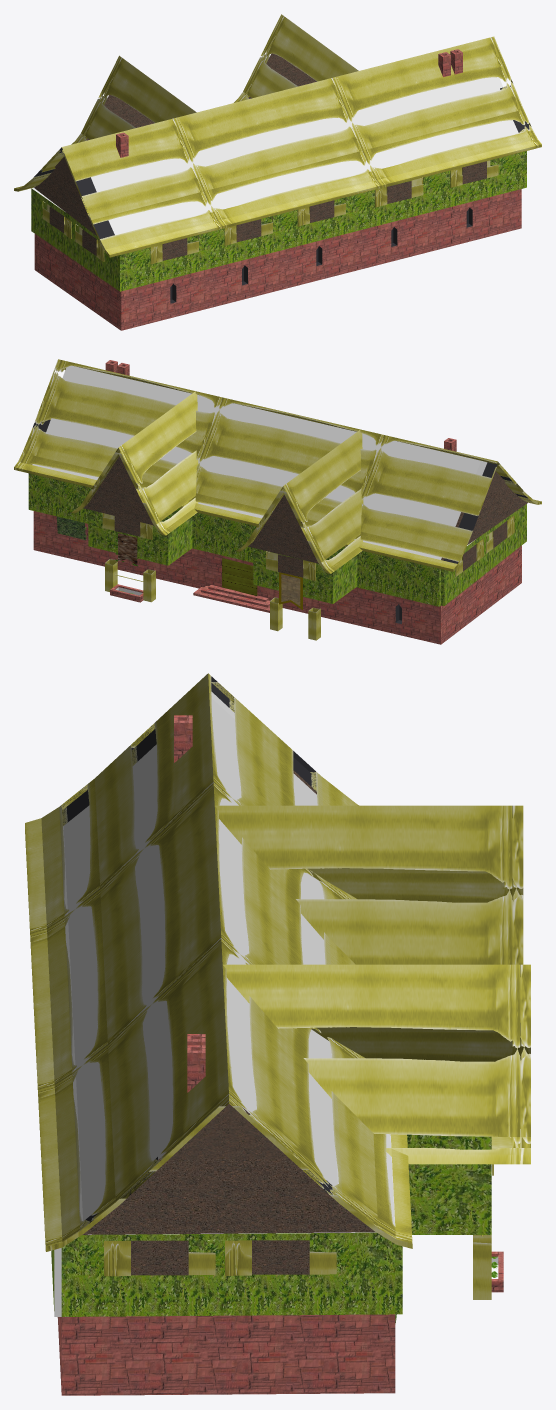
File: Ordenshaus_ODL.dae
3 renders of one model, top to bottom at view 1: azimuth 30°, elevation 25°; view 2: azimuth 150°, elevation 25°; view 3: azimuth 270°, elevation 25°, orthographic. The views are drawn at different scales.
Parts seen in each view (by area): view 1: Group1, Component_4_2, Component_4, Fenster_mit_Laden12 (×5), Fensterläden12 (×3); view 2: Group1, Component_4, Component_4_2, Component_10, Fenster_mit_Laden (×2), Fensterläden (×2), Group2, Component_6, Group3; view 3: Group1, Component_4, Component_4_2, Fenster_mit_Laden12 (×2), Fensterläden12 (×2).
Part boxes in pixels (left/top/right/bottom): Group1: left=14, top=36, right=541, bottom=330; Component_4_2: left=71, top=55, right=196, bottom=144; Component_4: left=234, top=14, right=358, bottom=102; Fenster_mit_Laden12 (×5): left=162, top=161, right=486, bottom=260; Fensterläden12 (×3): left=224, top=158, right=498, bottom=245; Group1: left=14, top=359, right=541, bottom=644; Component_4: left=71, top=391, right=198, bottom=602; Component_4_2: left=236, top=430, right=363, bottom=640; Component_10: left=115, top=533, right=302, bottom=609; Fenster_mit_Laden (×2): left=114, top=516, right=303, bottom=577; Fensterläden (×2): left=102, top=513, right=315, bottom=580; Group2: left=222, top=558, right=239, bottom=591; Component_6: left=56, top=516, right=86, bottom=540; Group3: left=239, top=562, right=257, bottom=595; Group1: left=25, top=673, right=503, bottom=1395; Component_4: left=223, top=964, right=530, bottom=1299; Component_4_2: left=215, top=805, right=523, bottom=964; Fenster_mit_Laden12 (×2): left=131, top=1240, right=309, bottom=1275; Fensterläden12 (×2): left=104, top=1239, right=336, bottom=1276.
Size of the model in its own units: 3045 by 1525 by 1061.
